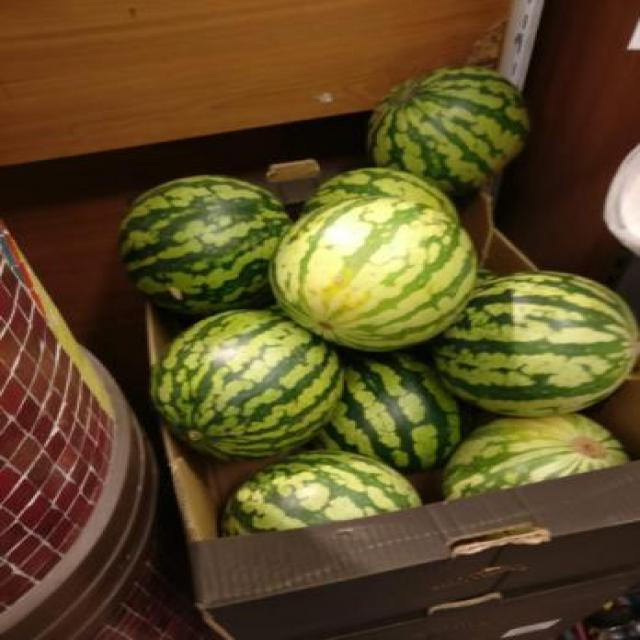Watermelon: (154, 299, 350, 450), (449, 269, 638, 419), (278, 202, 472, 348), (103, 180, 294, 318), (373, 54, 541, 188)
